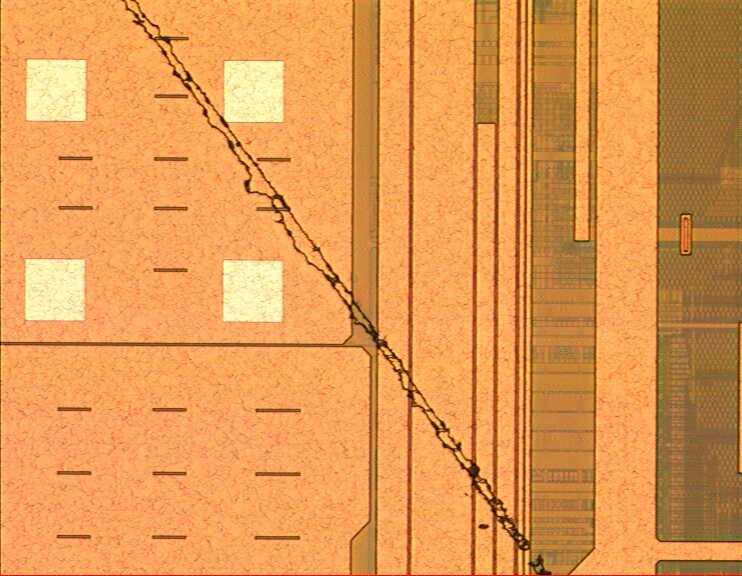SCRATCH: (118, 1, 557, 576)
